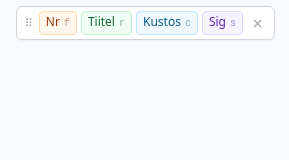
Test: PageMarkPalette › keeldumisel näitab põhjust
Step 1. Press the mouse on the button with aria-label "Siirdeviit" → point(167, 23), box [136,11,198,35]
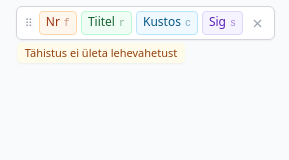
Result: the message shows "lehevahetust" at [25,45,177,60]
